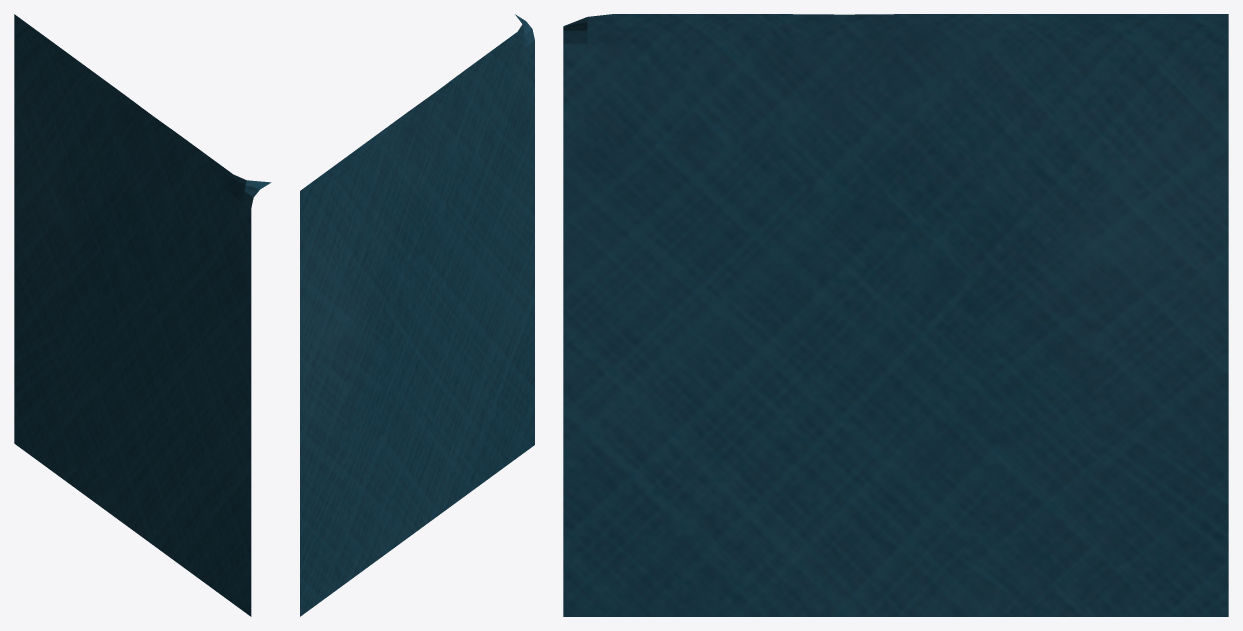
File: tl_endplaneR.FBX
The picture shows the model from 3 angles, left to right: view 1: azimuth 30°, elevation 25°; view 2: azimuth 150°, elevation 25°; view 3: azimuth 270°, elevation 25°; orthographic projection. The views are drawn at different scales.
Visible parts, largest first — view 1: tl_endplaneright_FINAL; view 2: tl_endplaneright_FINAL; view 3: tl_endplaneright_FINAL.
Part boxes in pixels (<box>): tl_endplaneright_FINAL: <box>14,14,271,616</box>; tl_endplaneright_FINAL: <box>300,14,534,616</box>; tl_endplaneright_FINAL: <box>563,14,1228,616</box>.
Bounding box in the file's own units: 5 × 100 × 100.
